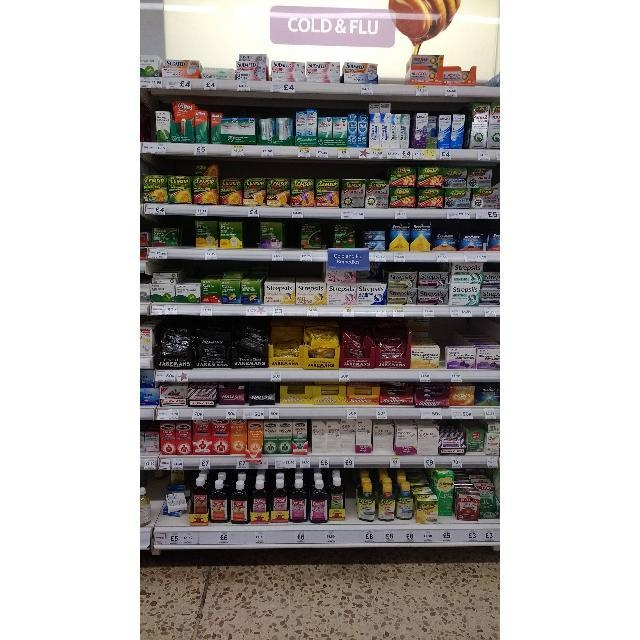empty: (378, 33, 406, 84), (140, 87, 156, 142), (476, 37, 487, 87), (285, 217, 301, 249), (246, 217, 260, 249), (182, 215, 195, 247)
front: (151, 517, 189, 526), (437, 516, 455, 523), (373, 450, 395, 454), (478, 519, 500, 523)
